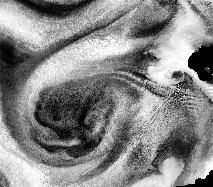CE: (11, 47, 127, 167)
